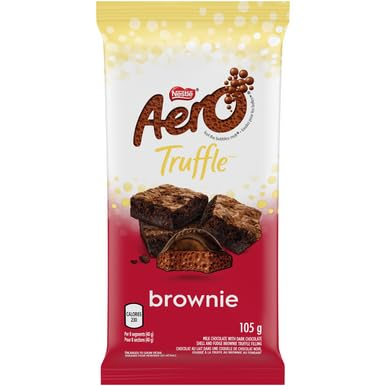brownie: (150, 291, 238, 307)
